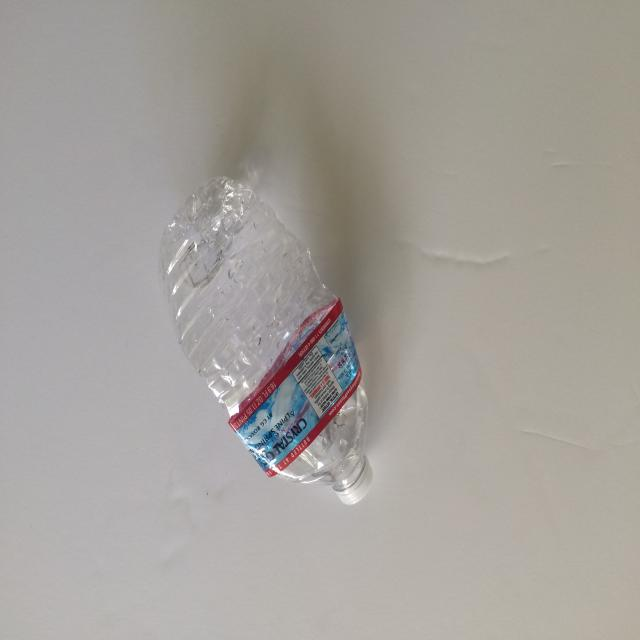plastic: (157, 174, 373, 505)
